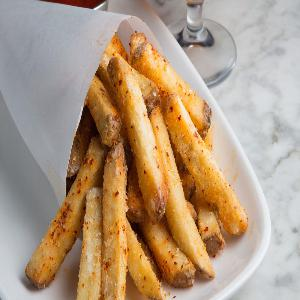fries: (36, 38, 242, 293)
